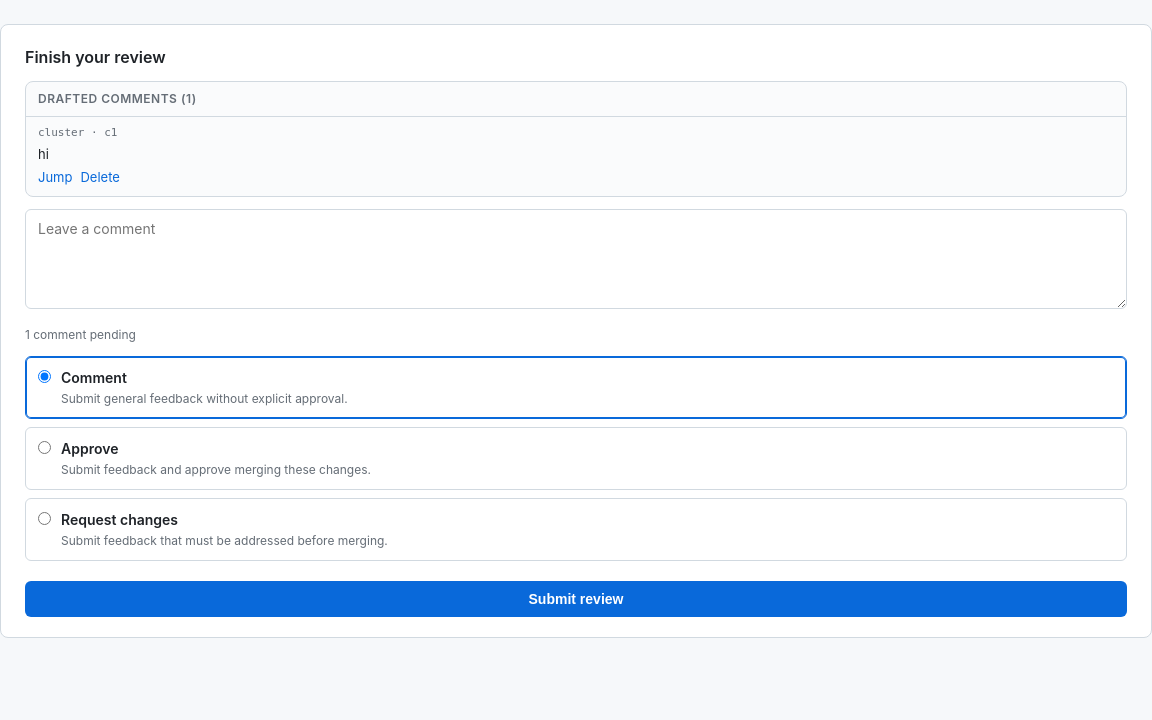
ReviewSubmitBar › orphan dialog wiring › shows the dialog with orphans when submit returns >0 orphans
Click the button "Submit review": (576, 598) [25, 580, 1127, 616]
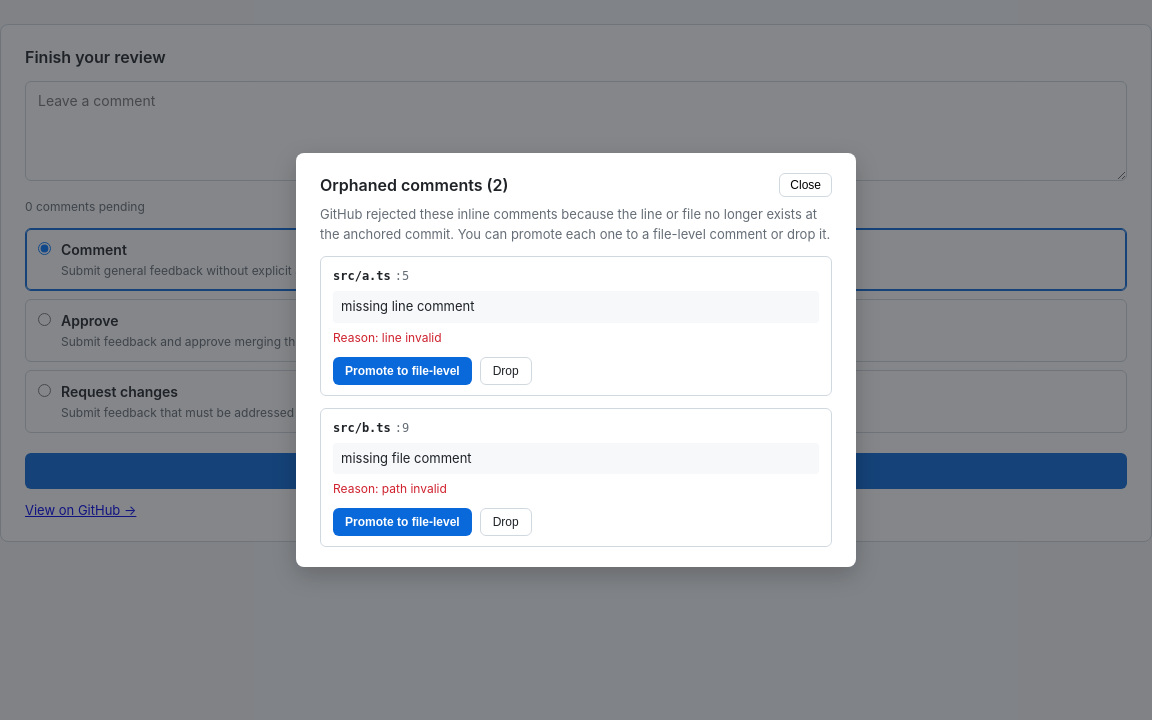
Expected: the dialog is shown, [296, 153, 856, 567]
Expected: the heading "Orphaned comments (2)" is shown, [320, 173, 508, 197]
Expected: the text "src/a.ts" is shown, [333, 267, 391, 285]
